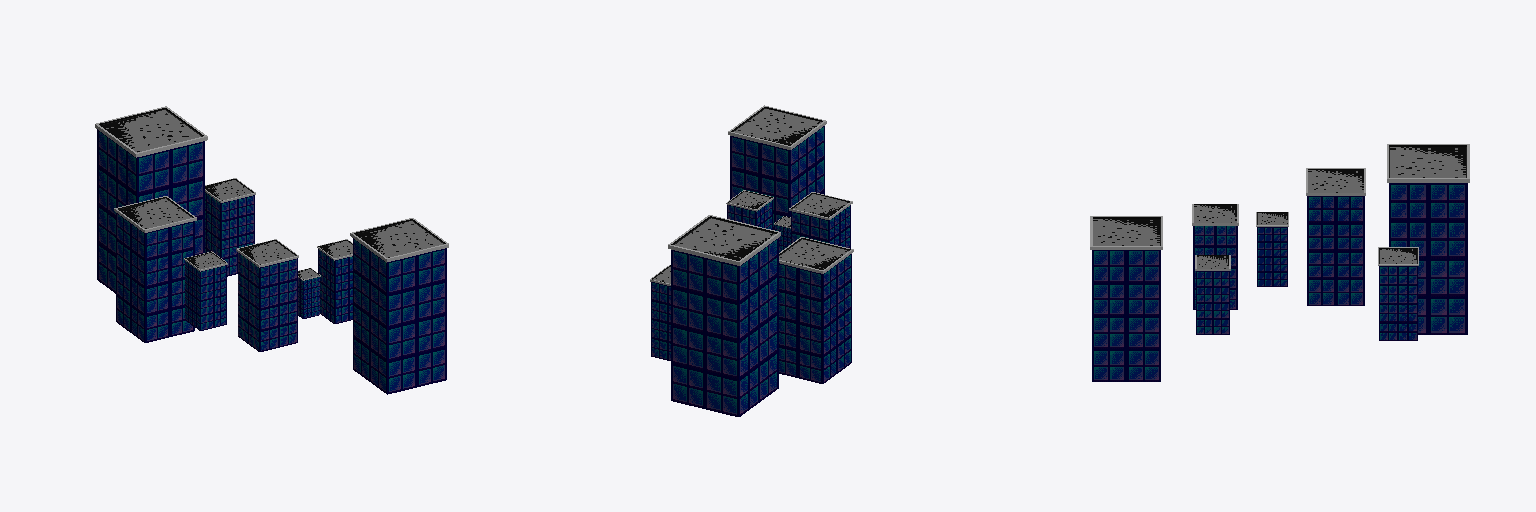
3 renders of one model, left to right at view 1: azimuth 30°, elevation 25°; view 2: azimuth 150°, elevation 25°; view 3: azimuth 270°, elevation 25°, orthographic.
Parts seen in each view (by area): view 1: Cube.019_Cube.029, Cube.027_Cube.037, Cube.023_Cube.033, Cube.015_Cube.025, Cube.026_Cube.036, Cube.025_Cube.035, Cube.018_Cube.028, Cube.021_Cube.031, Cube.012_Cube.023, Cube.022_Cube.032, Cube.013_Cube.024, Cube.017_Cube.027 (+1 smaller); view 2: Cube.027_Cube.037, Cube.023_Cube.033, Cube.019_Cube.029, Cube.026_Cube.036, Cube.018_Cube.028, Cube.022_Cube.032, Cube.015_Cube.025, Cube.025_Cube.035, Cube.013_Cube.024, Cube.012_Cube.023, Cube.014; view 3: Cube.027_Cube.037, Cube.019_Cube.029, Cube.023_Cube.033, Cube.026_Cube.036, Cube.025_Cube.035, Cube.018_Cube.028, Cube.012_Cube.023, Cube.015_Cube.025, Cube.021_Cube.031, Cube.022_Cube.032, Cube.013_Cube.024, Cube.024_Cube.034 (+1 smaller).
Part boxes in pixels (bbox=[...]): Cube.019_Cube.029: bbox=[353, 238, 446, 394]; Cube.027_Cube.037: bbox=[97, 129, 204, 293]; Cube.023_Cube.033: bbox=[116, 213, 194, 342]; Cube.015_Cube.025: bbox=[238, 253, 297, 351]; Cube.026_Cube.036: bbox=[95, 106, 207, 157]; Cube.025_Cube.035: bbox=[205, 192, 254, 276]; Cube.018_Cube.028: bbox=[350, 218, 448, 262]; Cube.021_Cube.031: bbox=[185, 261, 226, 330]; Cube.012_Cube.023: bbox=[318, 249, 352, 323]; Cube.022_Cube.032: bbox=[114, 196, 196, 232]; Cube.013_Cube.024: bbox=[236, 239, 298, 267]; Cube.017_Cube.027: bbox=[298, 277, 319, 318]; Cube.027_Cube.037: bbox=[671, 238, 778, 416]; Cube.023_Cube.033: bbox=[779, 254, 851, 383]; Cube.019_Cube.029: bbox=[730, 126, 824, 229]; Cube.026_Cube.036: bbox=[668, 215, 780, 265]; Cube.018_Cube.028: bbox=[728, 105, 826, 149]; Cube.022_Cube.032: bbox=[779, 237, 853, 273]; Cube.015_Cube.025: bbox=[791, 205, 850, 248]; Cube.025_Cube.035: bbox=[651, 282, 670, 360]; Cube.013_Cube.024: bbox=[789, 192, 852, 219]; Cube.012_Cube.023: bbox=[727, 200, 772, 229]; Cube.014: bbox=[726, 190, 773, 211]; Cube.027_Cube.037: bbox=[1389, 183, 1467, 334]; Cube.019_Cube.029: bbox=[1092, 250, 1160, 381]; Cube.023_Cube.033: bbox=[1307, 196, 1364, 305]; Cube.026_Cube.036: bbox=[1387, 144, 1469, 182]; Cube.025_Cube.035: bbox=[1379, 266, 1417, 340]; Cube.018_Cube.028: bbox=[1090, 216, 1162, 249]; Cube.012_Cube.023: bbox=[1196, 271, 1229, 334]; Cube.015_Cube.025: bbox=[1193, 226, 1237, 309]; Cube.021_Cube.031: bbox=[1257, 227, 1287, 286]; Cube.022_Cube.032: bbox=[1306, 168, 1365, 195]; Cube.013_Cube.024: bbox=[1192, 204, 1238, 225]; Cube.024_Cube.034: bbox=[1378, 247, 1418, 265].
Bounding box in the file's own units: 110 × 84.2 × 183.
1 materials, 1 textured.